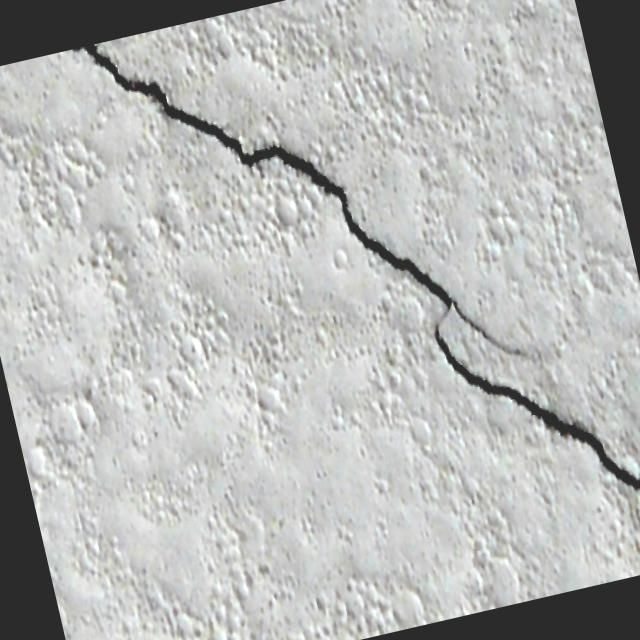crack: (80, 0, 417, 345), (410, 201, 640, 565)
